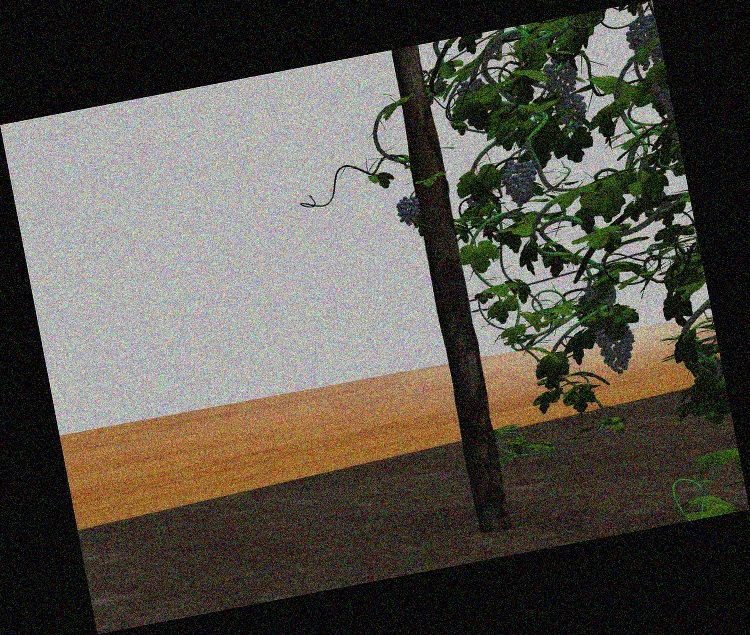grape: (598, 322, 635, 375), (626, 17, 660, 68), (502, 159, 539, 205), (544, 56, 578, 98), (555, 95, 589, 129), (396, 195, 421, 223)
